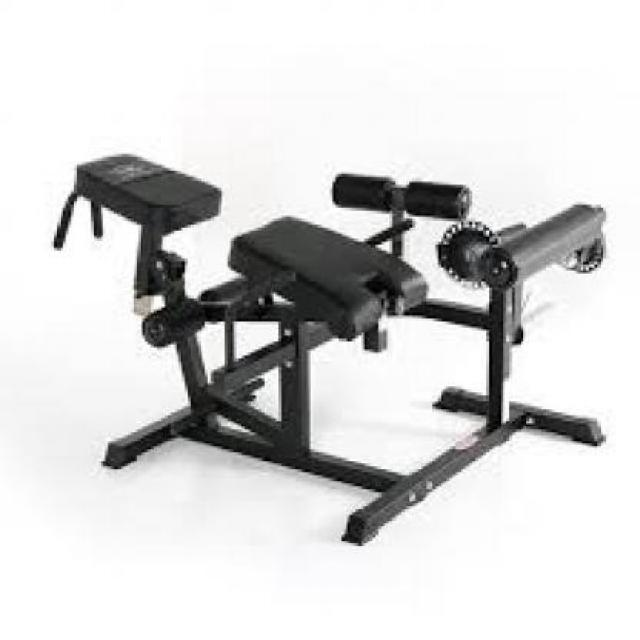reg curl machine: (50, 142, 612, 550)
